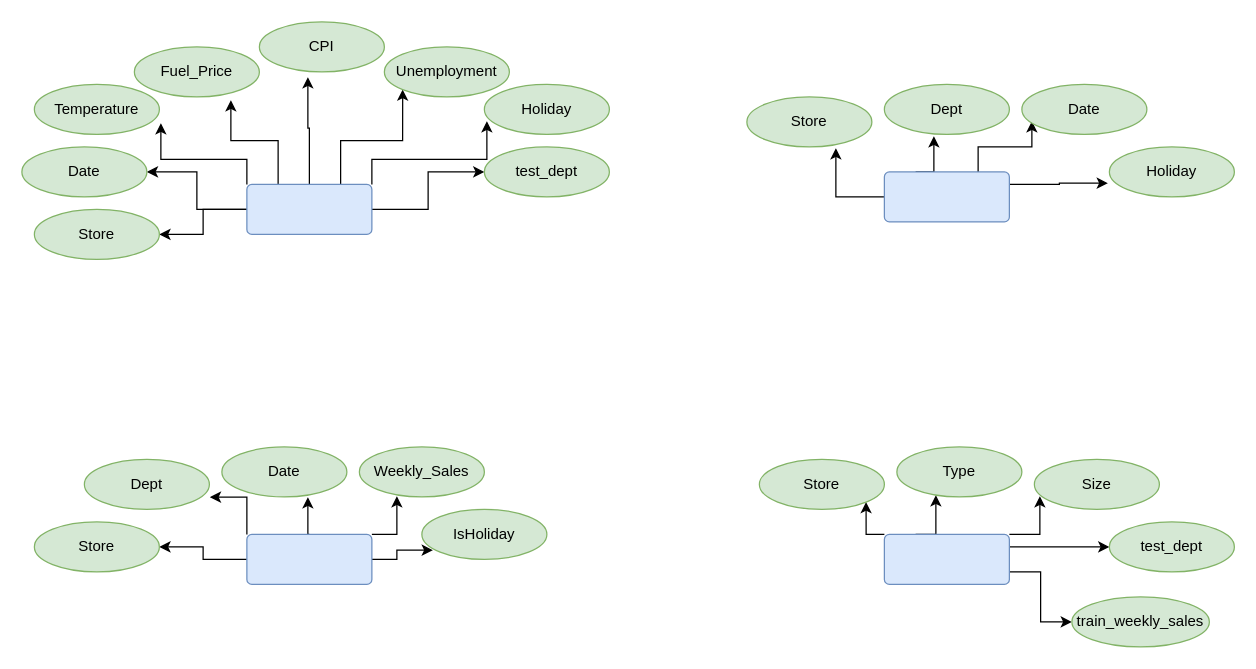
The diagram is 1256 pixels wide and 669 high, and some of its shapes have lost their labels. Here are the shapes that lost their labels. From the top down, the centre of each, then its label:
At pixel 309 208: "Features".
At pixel 946 196: "Test".
At pixel 309 558: "Train".
At pixel 946 558: "Stores".
